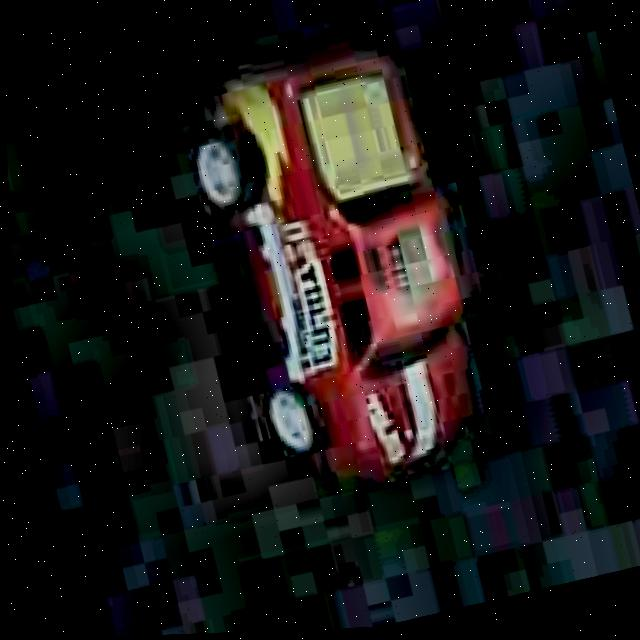car: (158, 33, 517, 521)
